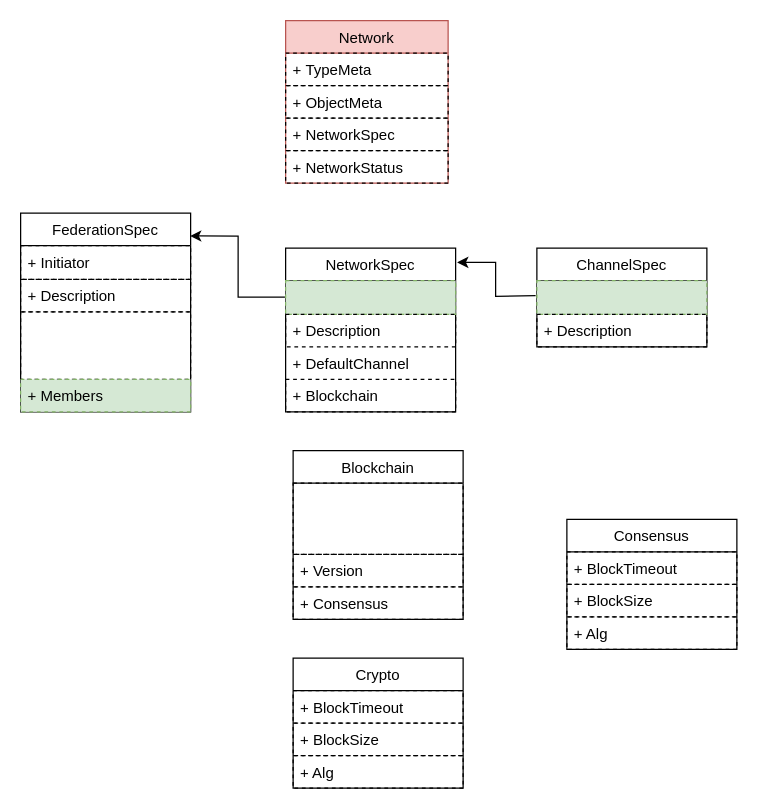
Image size: 758x809. Some labels were removed from this diagram. Each missing label, with the centre of its shape:
"+ Federation" goes at (x=370, y=296).
"+ Network" goes at (x=621, y=296).
"+ Policy - OneVote - Majority" goes at (x=105, y=345).
"+ Type - Fabric - Chainmaker" goes at (x=377, y=518).
